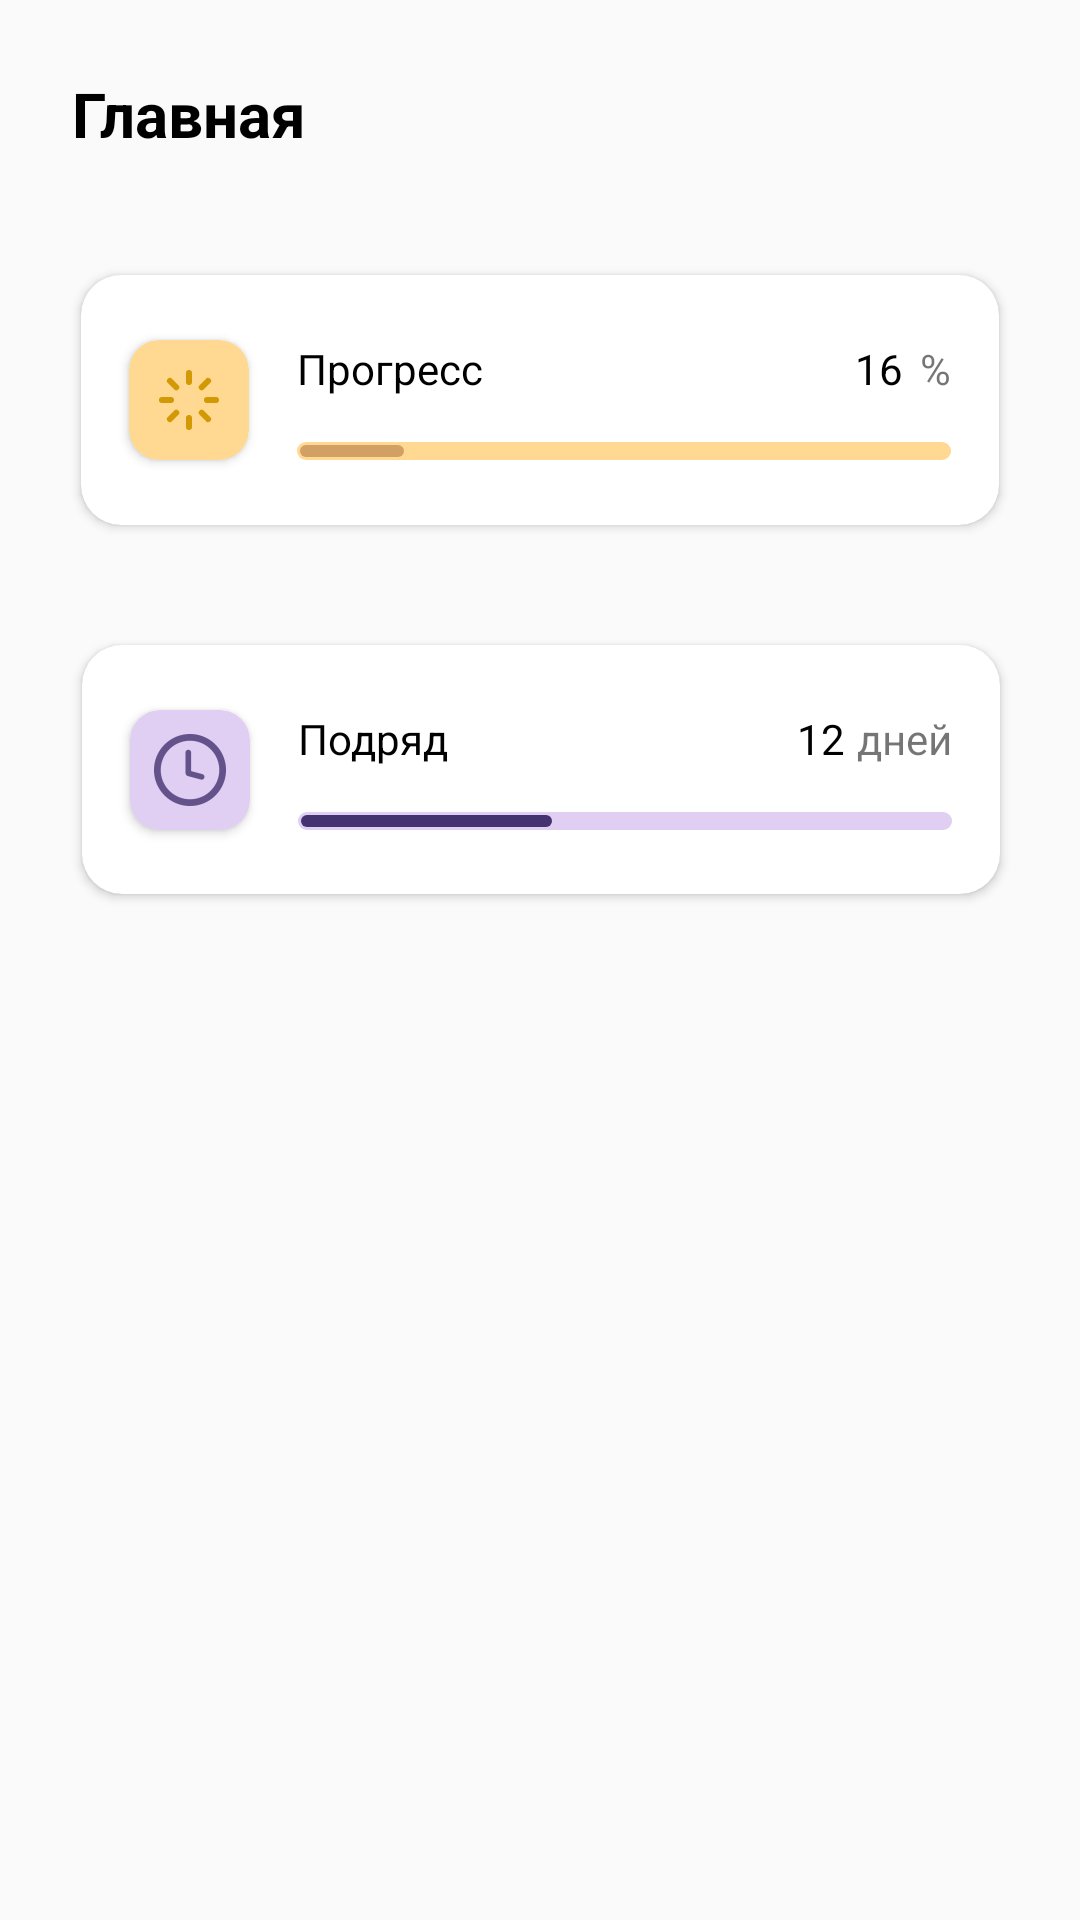

Point at icon controls on the screen. Image size 1080×1920, points as [x,y].
process: [189,400]
time: [190,770]
